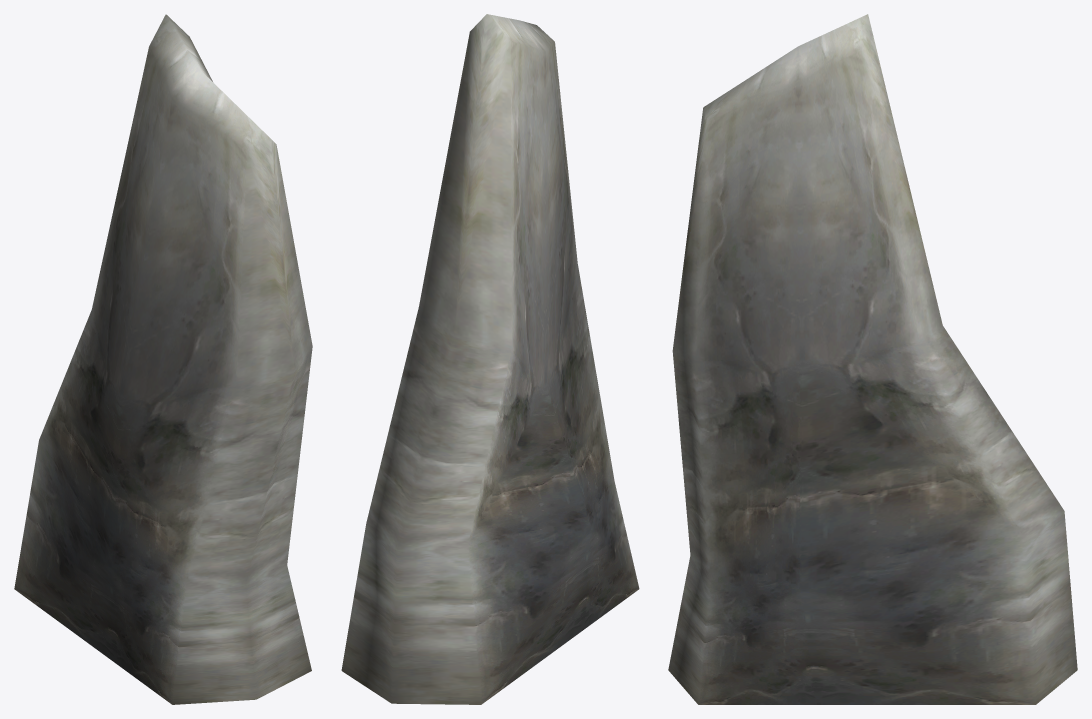
Rendered from arathirock03.glb.
The picture shows the model from 3 angles, left to right: view 1: azimuth 30°, elevation 25°; view 2: azimuth 150°, elevation 25°; view 3: azimuth 270°, elevation 25°; orthographic projection. The views are drawn at different scales.
Bounding box in the file's own units: 1.98 × 7.99 × 4.51.
Materials: 1 (1 with a texture image).
